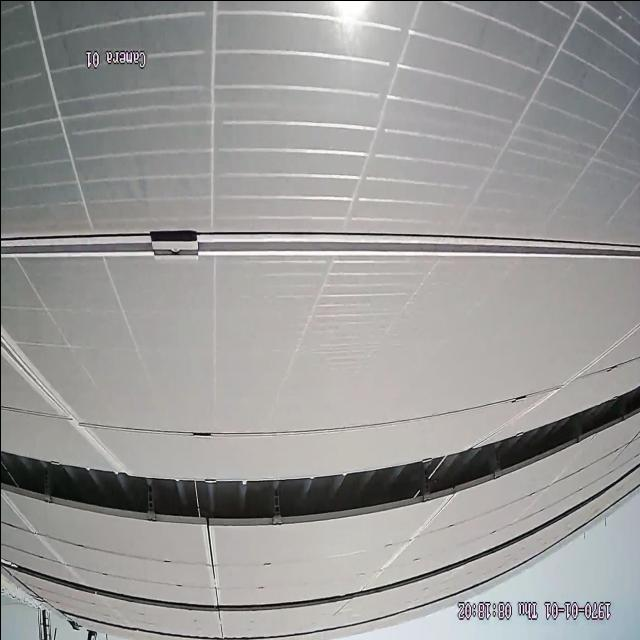interior panel: (6, 327, 122, 466), (2, 232, 639, 257)
outher panel: (4, 390, 639, 520)
